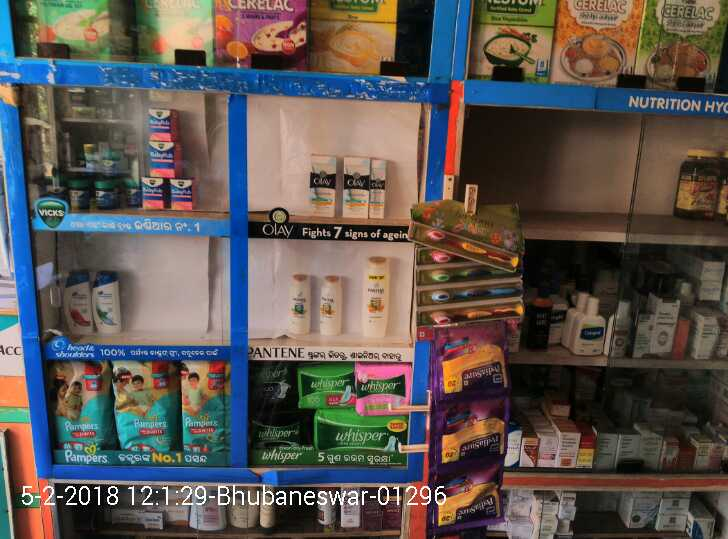beauty: (359, 254, 390, 341), (88, 271, 125, 331), (64, 268, 94, 340), (281, 273, 314, 333), (313, 275, 344, 334), (338, 158, 367, 221), (308, 156, 335, 212), (368, 161, 385, 219)
pharmacy: (68, 111, 194, 209), (109, 353, 181, 454), (44, 355, 112, 454), (312, 412, 408, 458), (179, 359, 224, 449), (291, 367, 361, 415), (351, 357, 408, 415)
